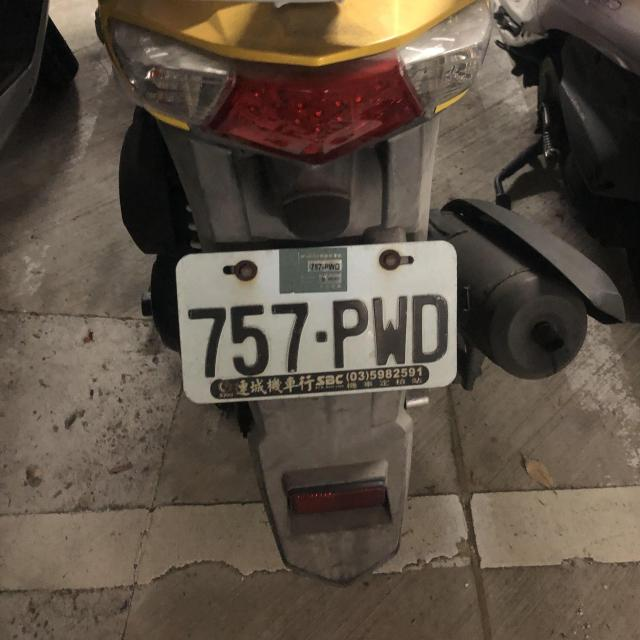W: (168, 230, 460, 410)
